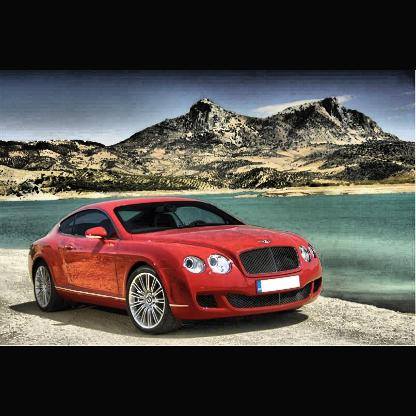Bentley Continental GT Coupe 2007: (28, 195, 327, 338)
